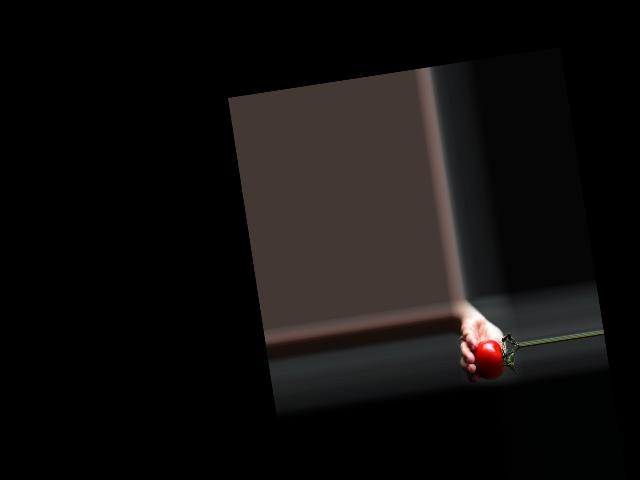tomato: (470, 337, 506, 381)
